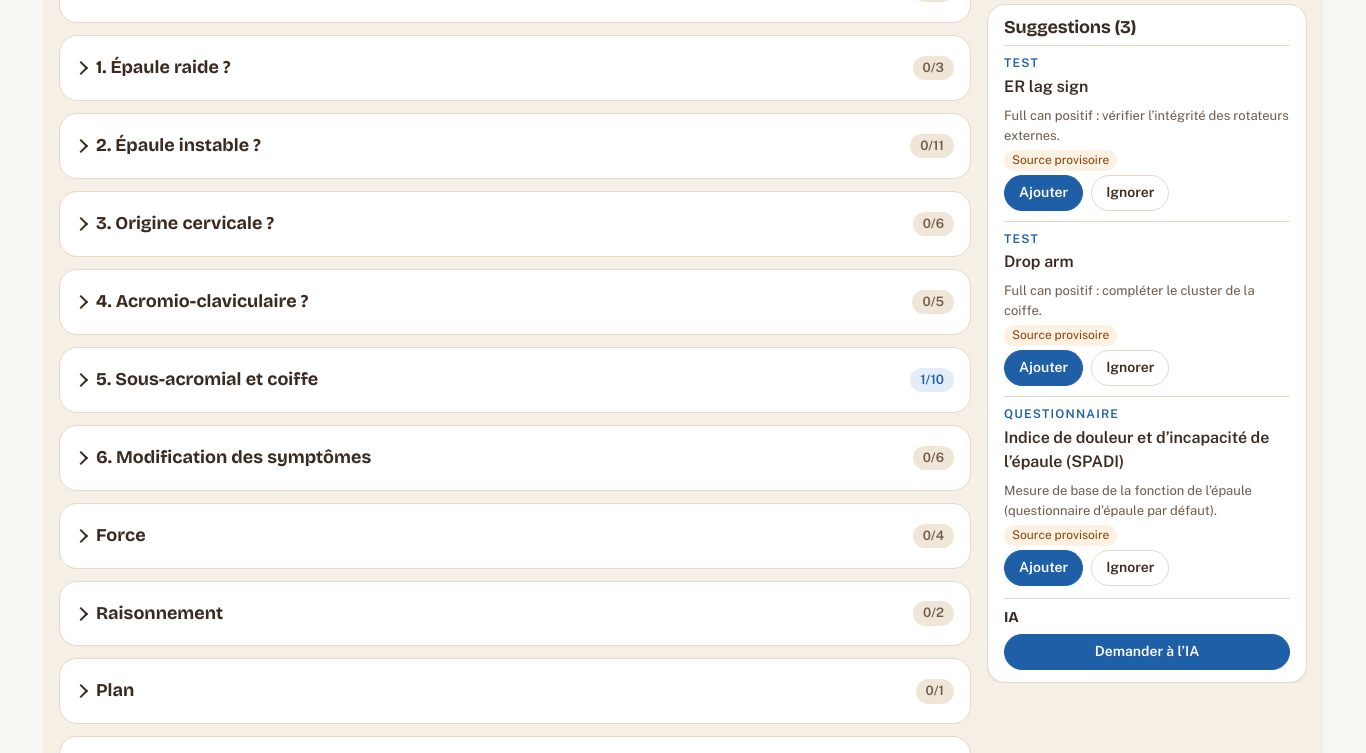
Test: Demander à l’IA › IA indisponible : message, les règles restent
This screenshot has width=1366, height=753.
(page scrolled)
Click the button "Demander à l’IA": point(1147, 652) [1004,634,1290,670]
(page scrolled)
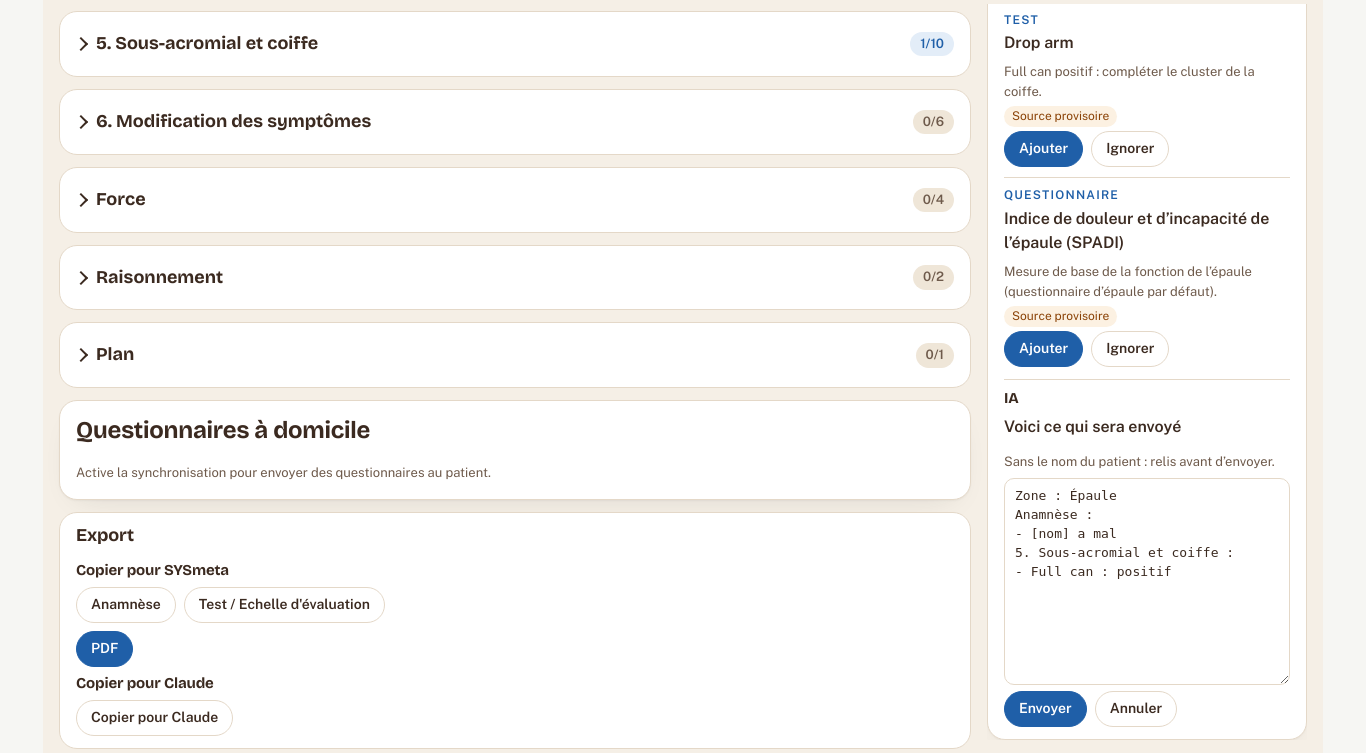
Click the button "Envoyer": point(1045, 709) [1004,691,1087,727]
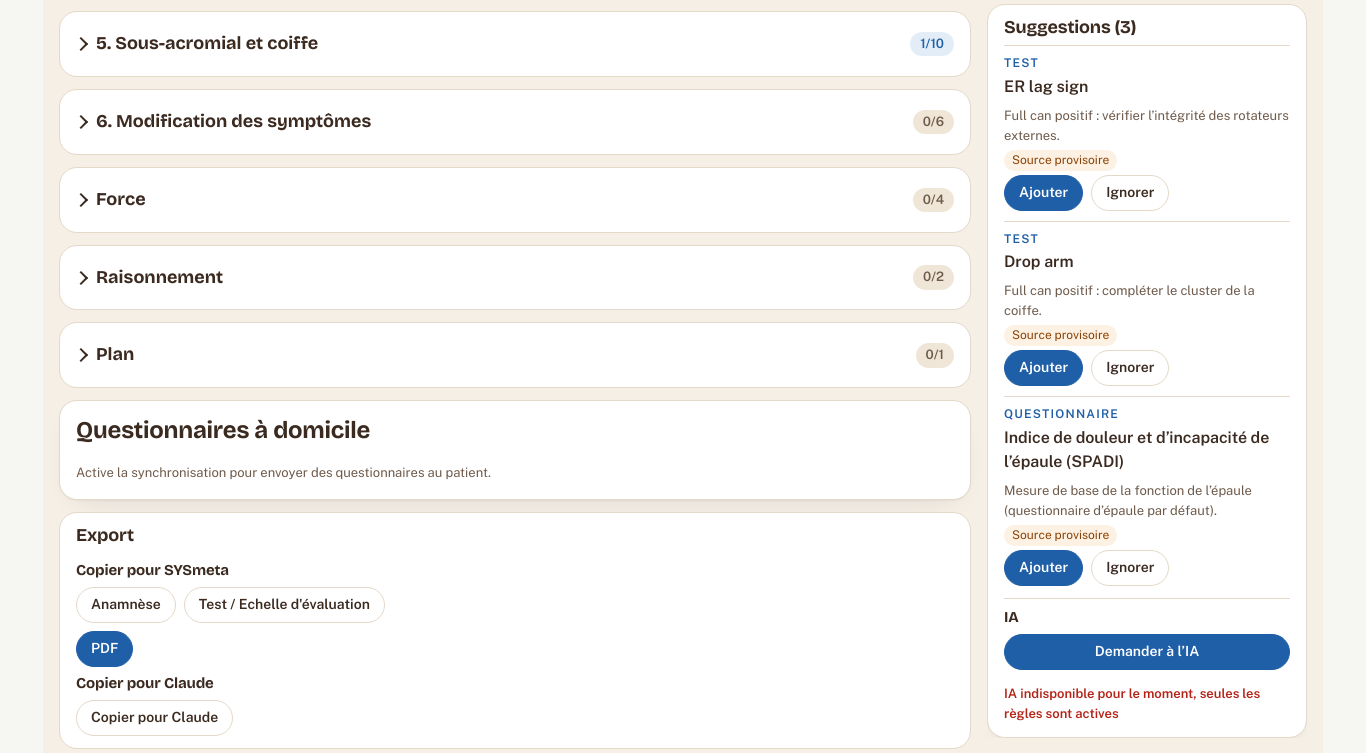
Now the text "IA indisponible pour le moment, seules les règles sont actives" is shown, box [1004,684,1290,725]
Now the text "ER lag sign" is shown, box [1004,77,1088,96]
